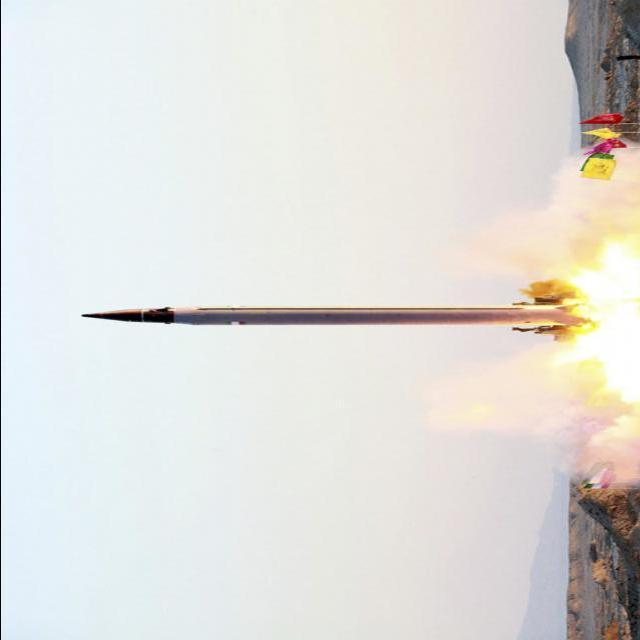missile: (78, 300, 590, 349)
